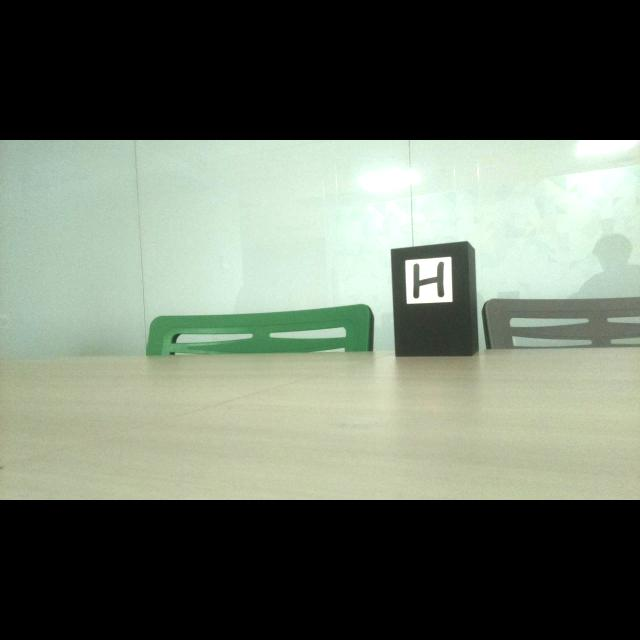H: (413, 261, 445, 299)
